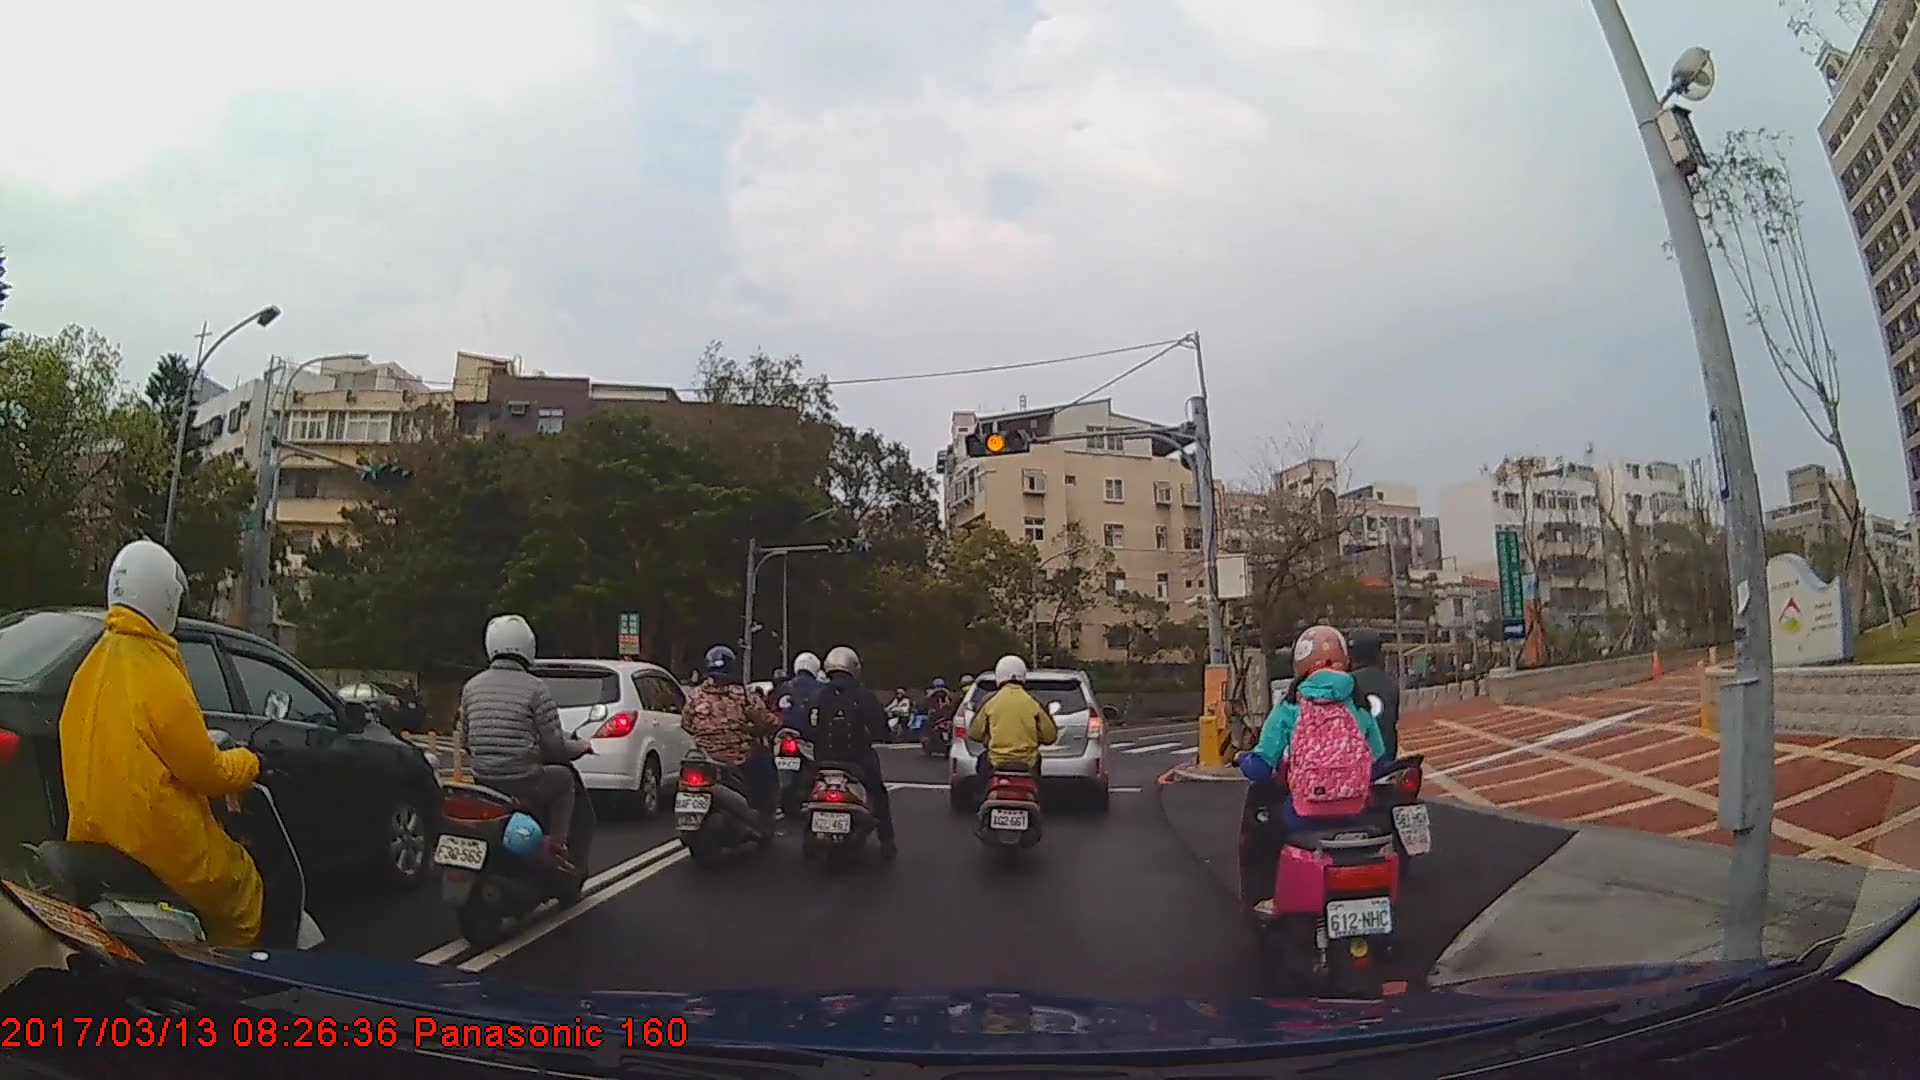rider: (23, 538, 329, 1014), (425, 609, 604, 953), (1236, 629, 1405, 976), (670, 642, 788, 874), (791, 640, 899, 872), (970, 651, 1063, 860), (766, 650, 835, 818), (934, 671, 993, 768), (911, 674, 965, 758)
vehicle: (0, 602, 447, 949), (483, 659, 721, 822), (944, 667, 1112, 812), (318, 679, 426, 731)
